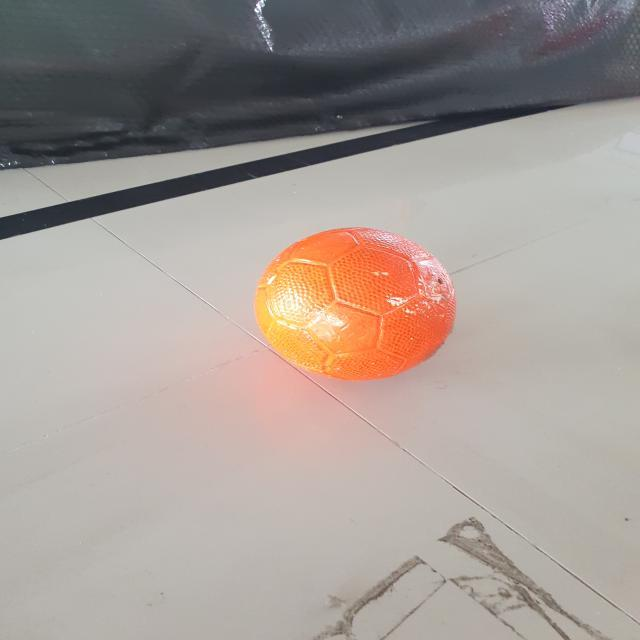bola: (234, 206, 488, 395)
